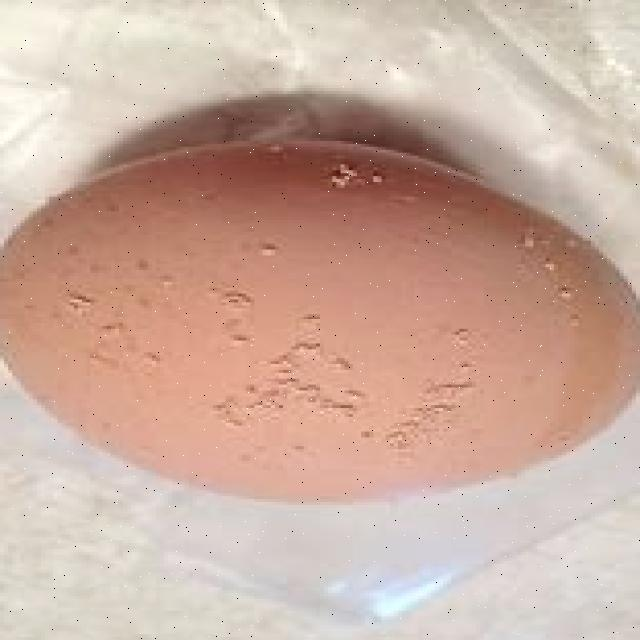Calcium Deposit Egg: (0, 117, 640, 517)
